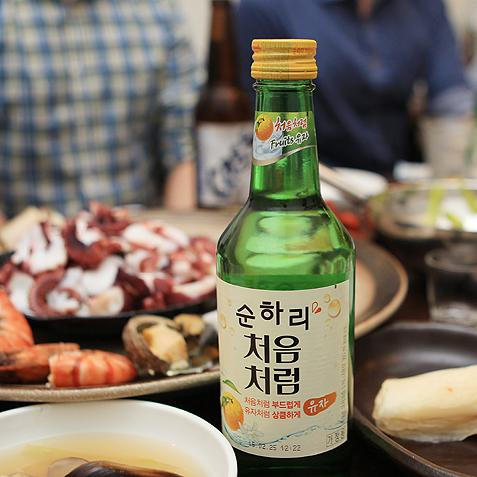soju: (212, 36, 355, 463)
